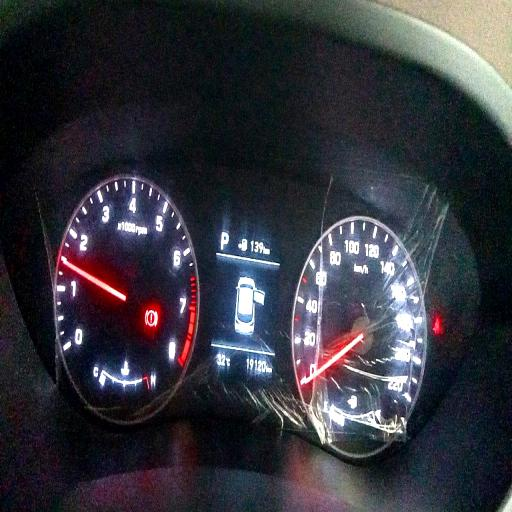brake_system_fault: (145, 309, 157, 327)
tachometer: (54, 173, 200, 410)
